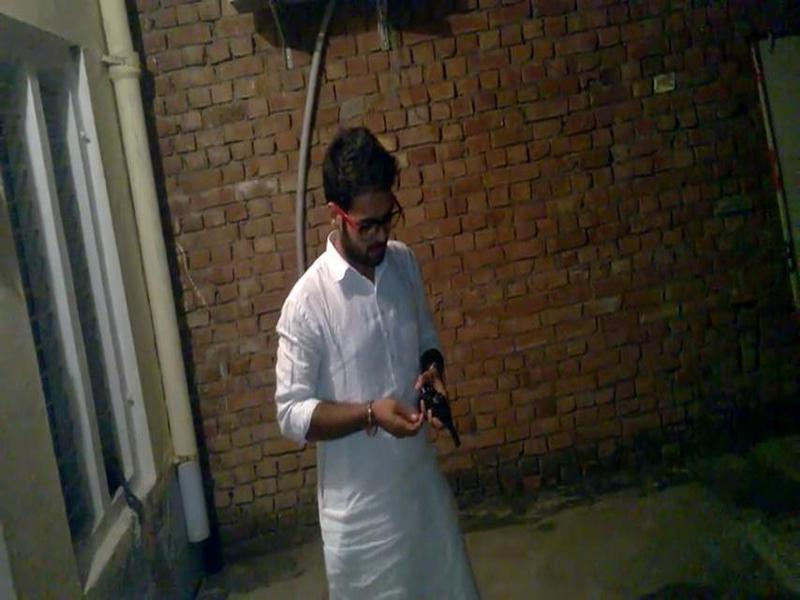Revolver: (396, 349, 484, 483)
